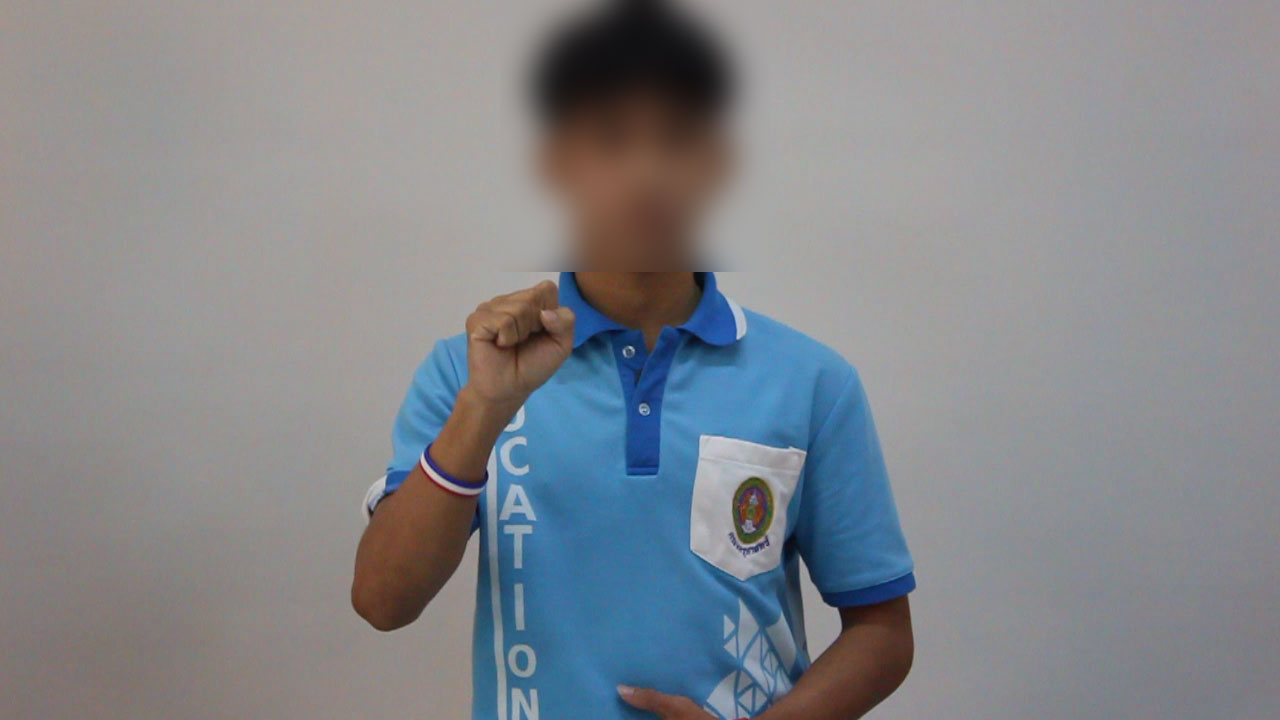sor: (447, 271, 583, 418)
